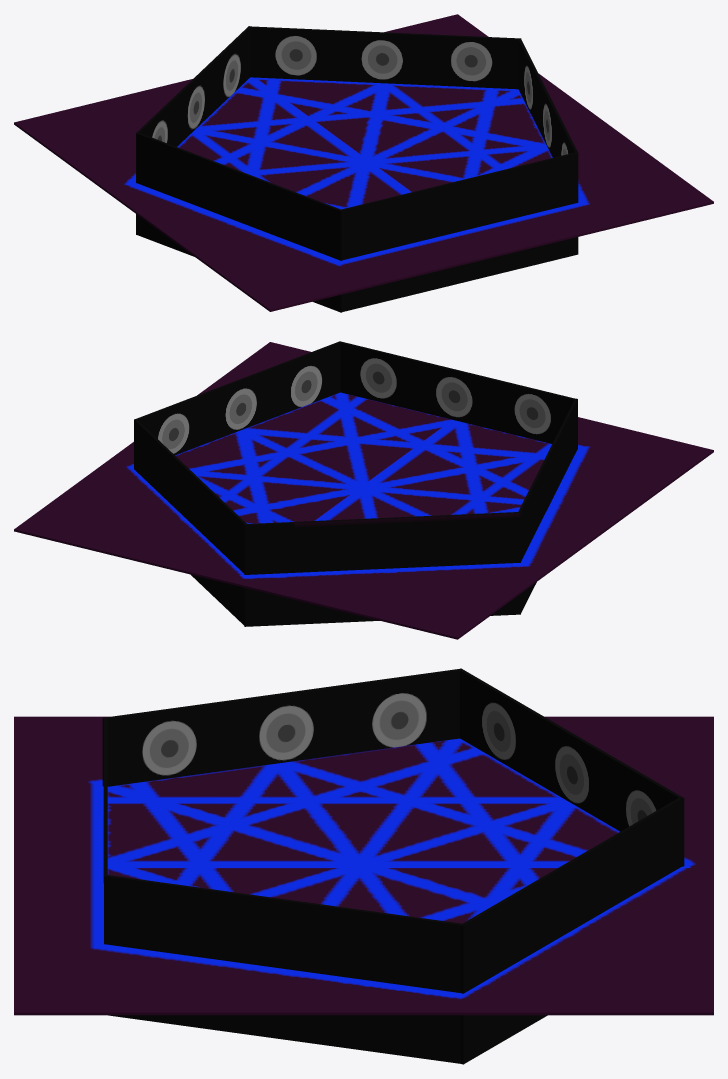
File: stage.obj
3 renders of one model, top to bottom at view 1: azimuth 30°, elevation 25°; view 2: azimuth 150°, elevation 25°; view 3: azimuth 270°, elevation 25°, orthographic. The views are drawn at different scales.
Parts seen in each view (by area): view 1: Cube, 立方体.005; view 2: Cube, 立方体.005; view 3: Cube, 立方体.005.
Boxes of the visible parts, x1,y1,x2,y2 form: Cube: (14, 14, 713, 311); 立方体.005: (136, 26, 578, 312); Cube: (14, 342, 713, 639); 立方体.005: (134, 341, 577, 626); Cube: (14, 716, 713, 1015); 立方体.005: (102, 668, 684, 1064).
Bounding box in the file's own units: 18.29 × 4 × 18.29.
Materials: 2 (2 with a texture image).
